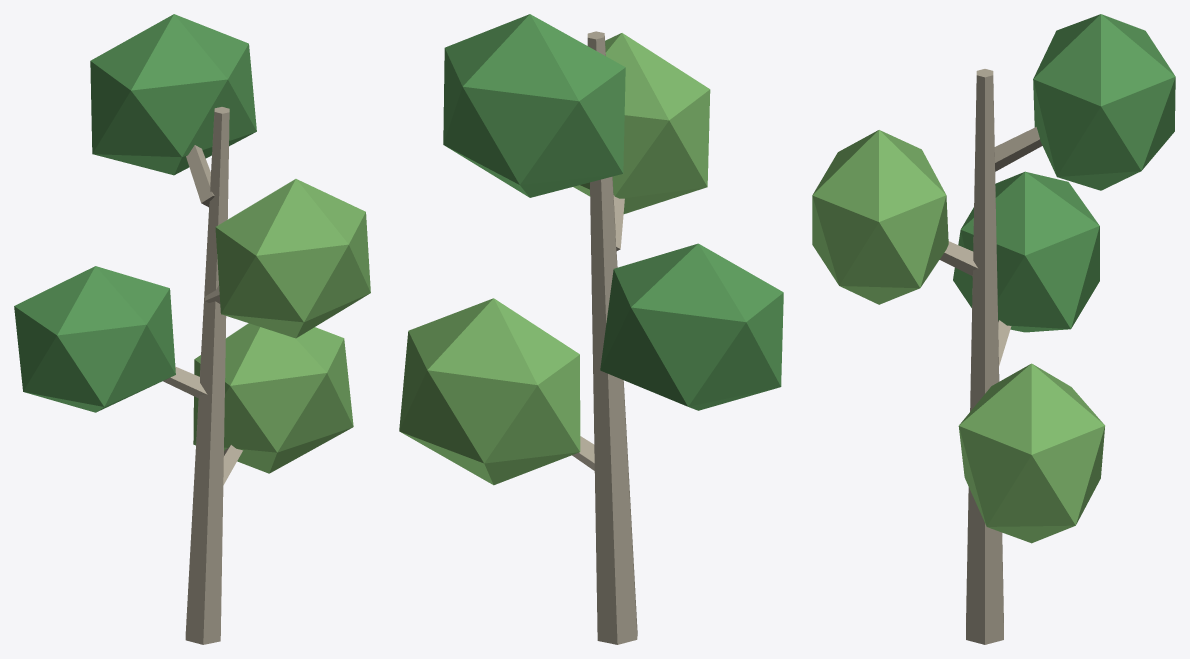
The model's file is birch_sapling_01.glb.
3 views of the same model, side by side, from view 1: azimuth 30°, elevation 25°; view 2: azimuth 150°, elevation 25°; view 3: azimuth 270°, elevation 25° (orthographic). The views are drawn at different scales.
Parts seen in each view (by area): view 1: Birch_sapling_01; view 2: Birch_sapling_01; view 3: Birch_sapling_01.
Part boxes in pixels (x1=…): Birch_sapling_01: x1=14, y1=14, x2=370, y2=644; Birch_sapling_01: x1=399, y1=14, x2=783, y2=644; Birch_sapling_01: x1=812, y1=14, x2=1175, y2=644.
Bounding box in the file's own units: 1.2 × 2.06 × 1.07.
